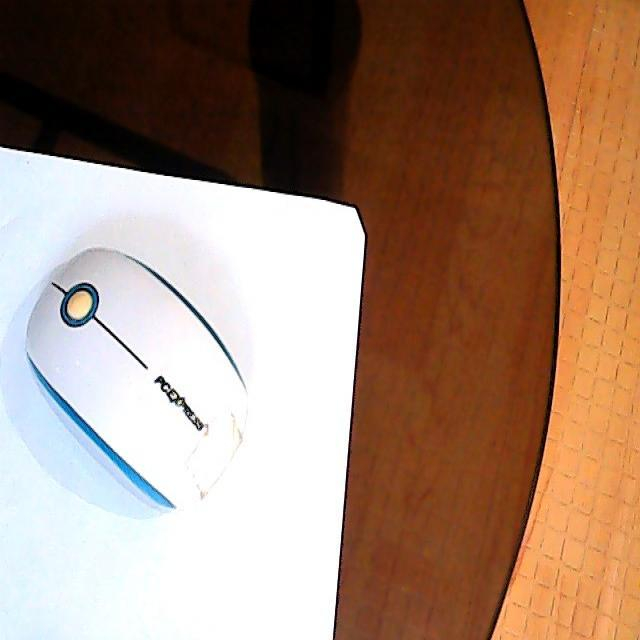mouse: (25, 244, 251, 512)
